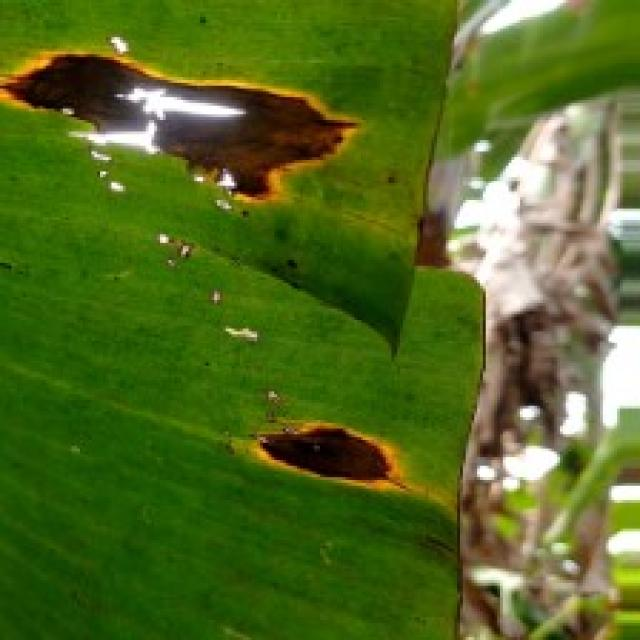Bacterial_spot: (0, 46, 366, 217), (237, 403, 421, 523), (188, 280, 276, 357), (402, 194, 462, 294), (140, 222, 205, 267), (98, 23, 126, 67)
